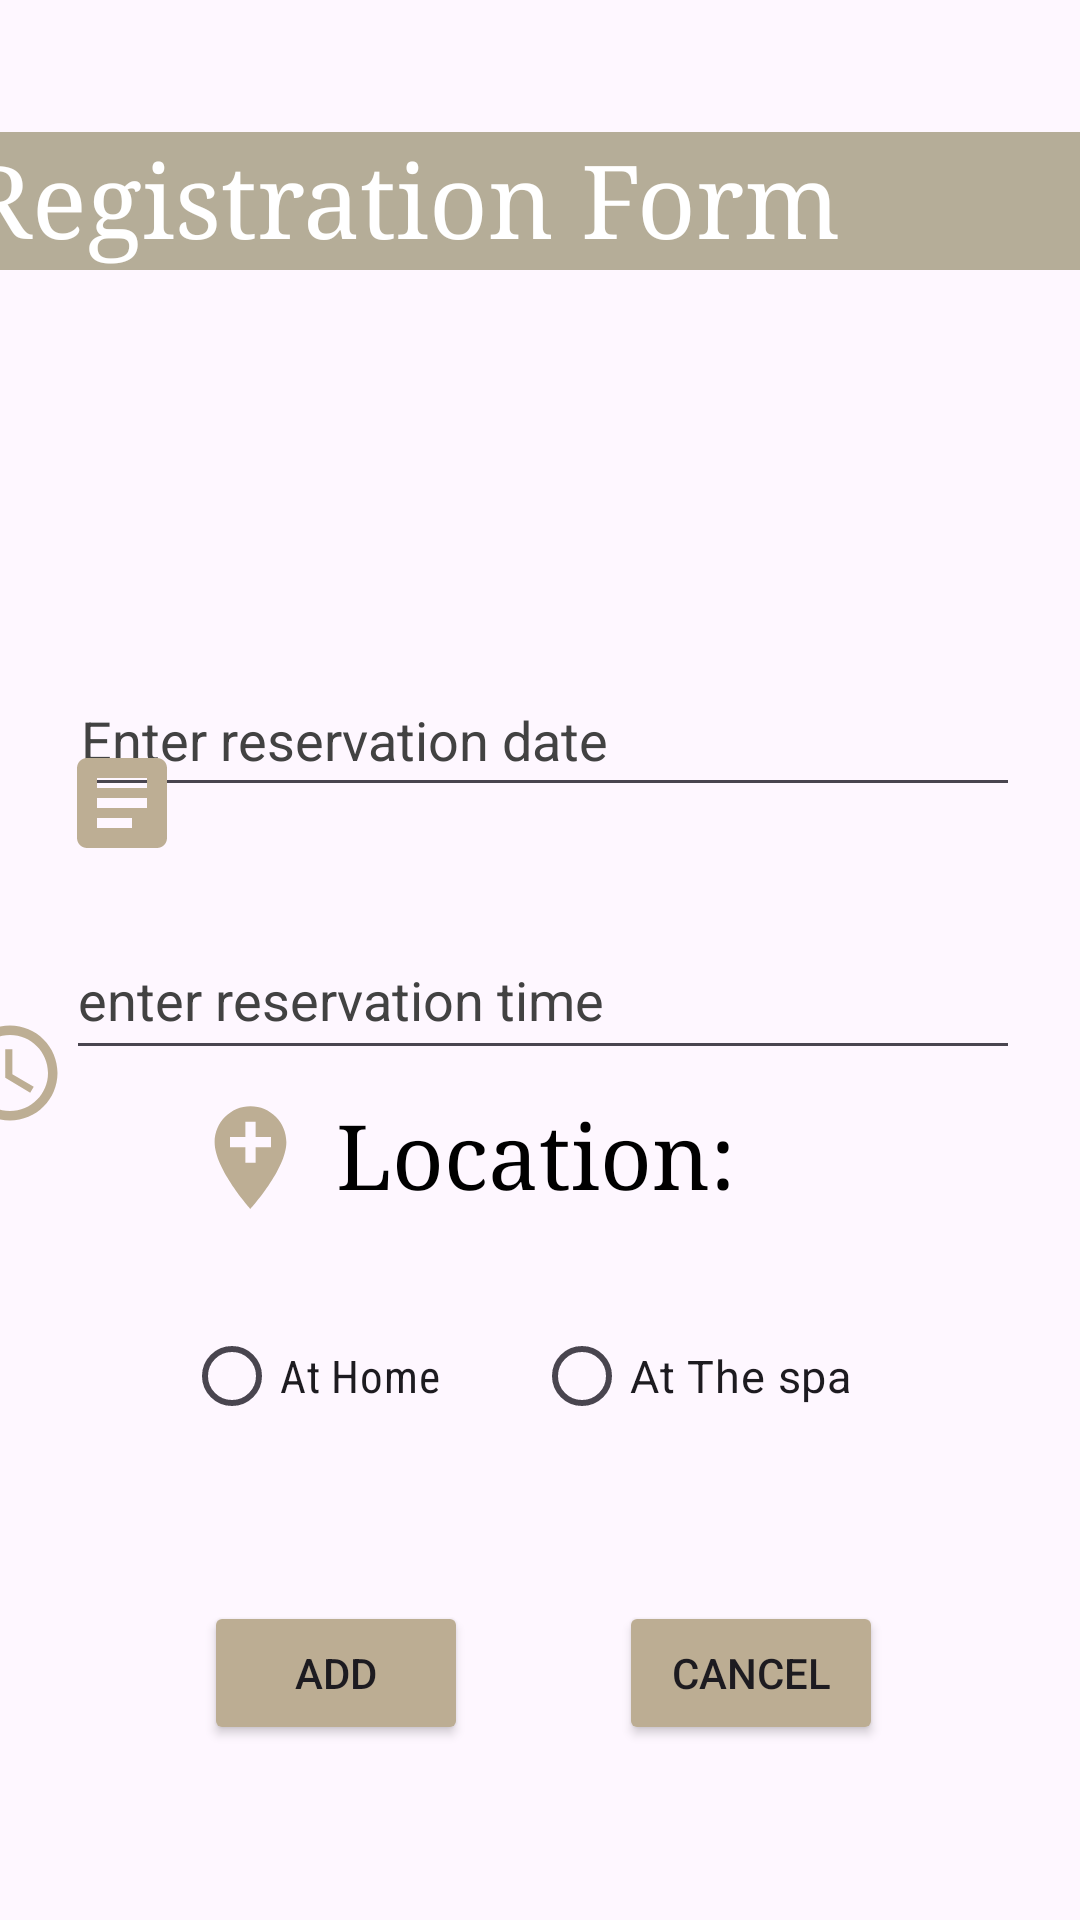

Where icons sit on this 1080×1920 app screen, as (x1, y1, x2, y2):
article: (77, 743, 183, 848)
